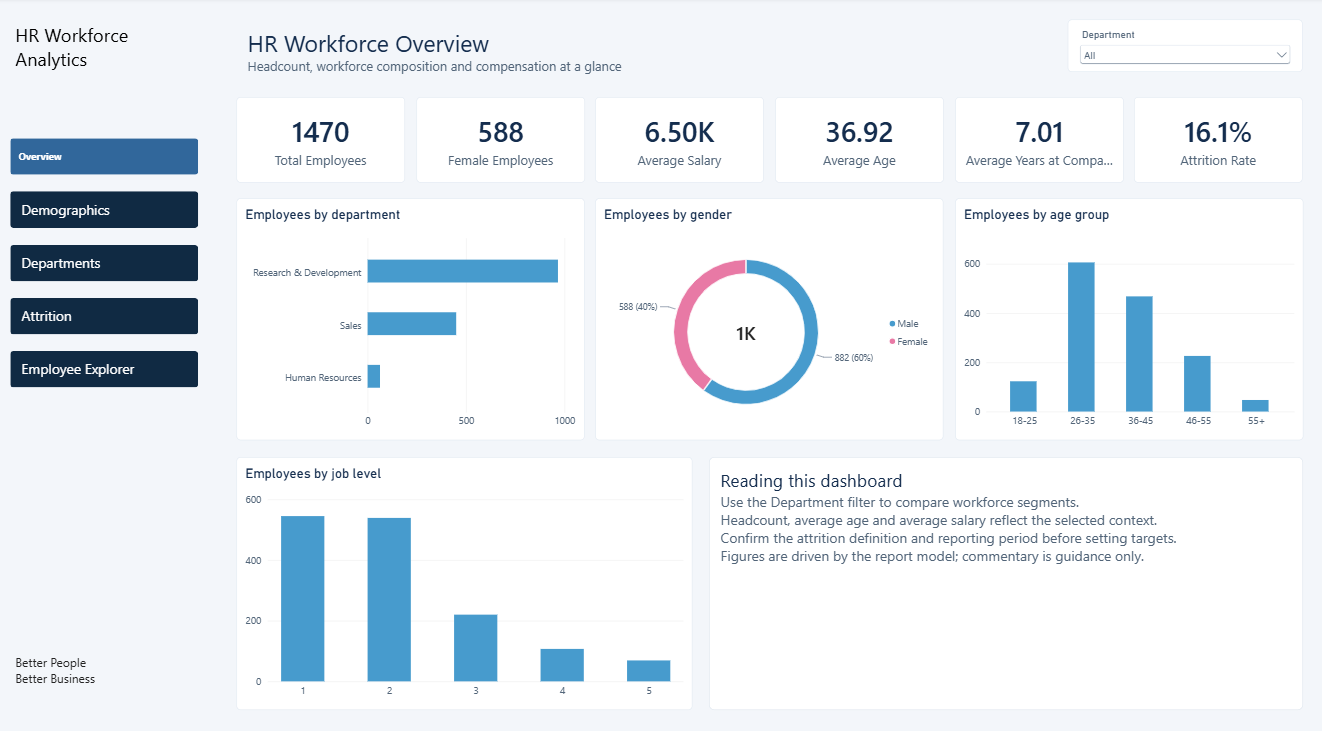

The page's visual inventory and layout, read from the dashboard file:
{"tool":"powerbi","page":{"name":"Overview","canvas":[1920,1080],"ordinal":0},"visuals":[{"type":"textbox","box":[0,0,304,1080],"z":-1000},{"type":"card","fields":{"Values":["Employees.Average Age"]},"box":[1124,144,244,124],"z":0},{"type":"card","fields":{"Values":["Employees.Average Salary"]},"box":[864,144,244,124],"z":1000},{"type":"card","fields":{"Values":["Employees.Total Employees"]},"box":[344,144,244,124],"z":2000},{"type":"card","fields":{"Values":["Employees.Female Employees"]},"box":[604,144,244,124],"z":2000},{"type":"card","fields":{"Values":["Employees.Average Years at Company"]},"box":[1384,144,244,124],"z":2000},{"type":"card","fields":{"Values":["Employees.Attrition Rate"]},"box":[1644,144,244,124],"z":3000},{"type":"clusteredBarChart","title":"Employees by department","fields":{"Category":["Employees.Department"],"Y":["Sum(Employees.EmployeeCount)"]},"box":[344,292,504,350],"z":4000},{"type":"textbox","box":[343.8,27.1,780,101.3],"z":5000},{"type":"donutChart","title":"Employees by gender","fields":{"Category":["Employees.Gender"],"Y":["Employees.Total Employees"]},"box":[864,292,504,350],"z":6000},{"type":"columnChart","title":"Employees by age group","fields":{"Category":["Employees.AgeGroup"],"Y":["Employees.Total Employees"]},"box":[1384,292,504,350],"z":7000},{"type":"slicer","fields":{"Values":["Employees.Department"]},"box":[1548,32,340,76],"z":8000},{"type":"columnChart","title":"Employees by job level","fields":{"Category":["Employees.JobLevel"],"Y":["Sum(Employees.EmployeeCount)"]},"box":[344,666,660,366],"z":9000},{"type":"textbox","box":[1028,666,860,366],"z":10000},{"type":"textbox","box":[24,36,256,108],"z":20000},{"type":"pageNavigator","box":[16,204,272,364],"z":20000},{"type":"textbox","box":[24,952,256,104],"z":20000}]}

Visuals, with their boxes in screenshot pixels (x1, y1, x2, y2), scaled from the page's 1920x1080 canvas onto the 1322x731 screenshot:
textbox: region(0, 0, 209, 730)
card - Employees.Average Age: region(774, 97, 942, 181)
card - Employees.Average Salary: region(595, 97, 763, 181)
card - Employees.Total Employees: region(237, 97, 405, 181)
card - Employees.Female Employees: region(416, 97, 584, 181)
card - Employees.Average Years at Company: region(953, 97, 1121, 181)
card - Employees.Attrition Rate: region(1132, 97, 1300, 181)
"Employees by department" clusteredBarChart: region(237, 198, 584, 435)
textbox: region(237, 18, 774, 87)
"Employees by gender" donutChart: region(595, 198, 942, 435)
"Employees by age group" columnChart: region(953, 198, 1300, 435)
slicer - Employees.Department: region(1066, 22, 1300, 73)
"Employees by job level" columnChart: region(237, 451, 691, 699)
textbox: region(708, 451, 1300, 699)
textbox: region(17, 24, 193, 97)
pageNavigator: region(11, 138, 198, 384)
textbox: region(17, 644, 193, 715)
